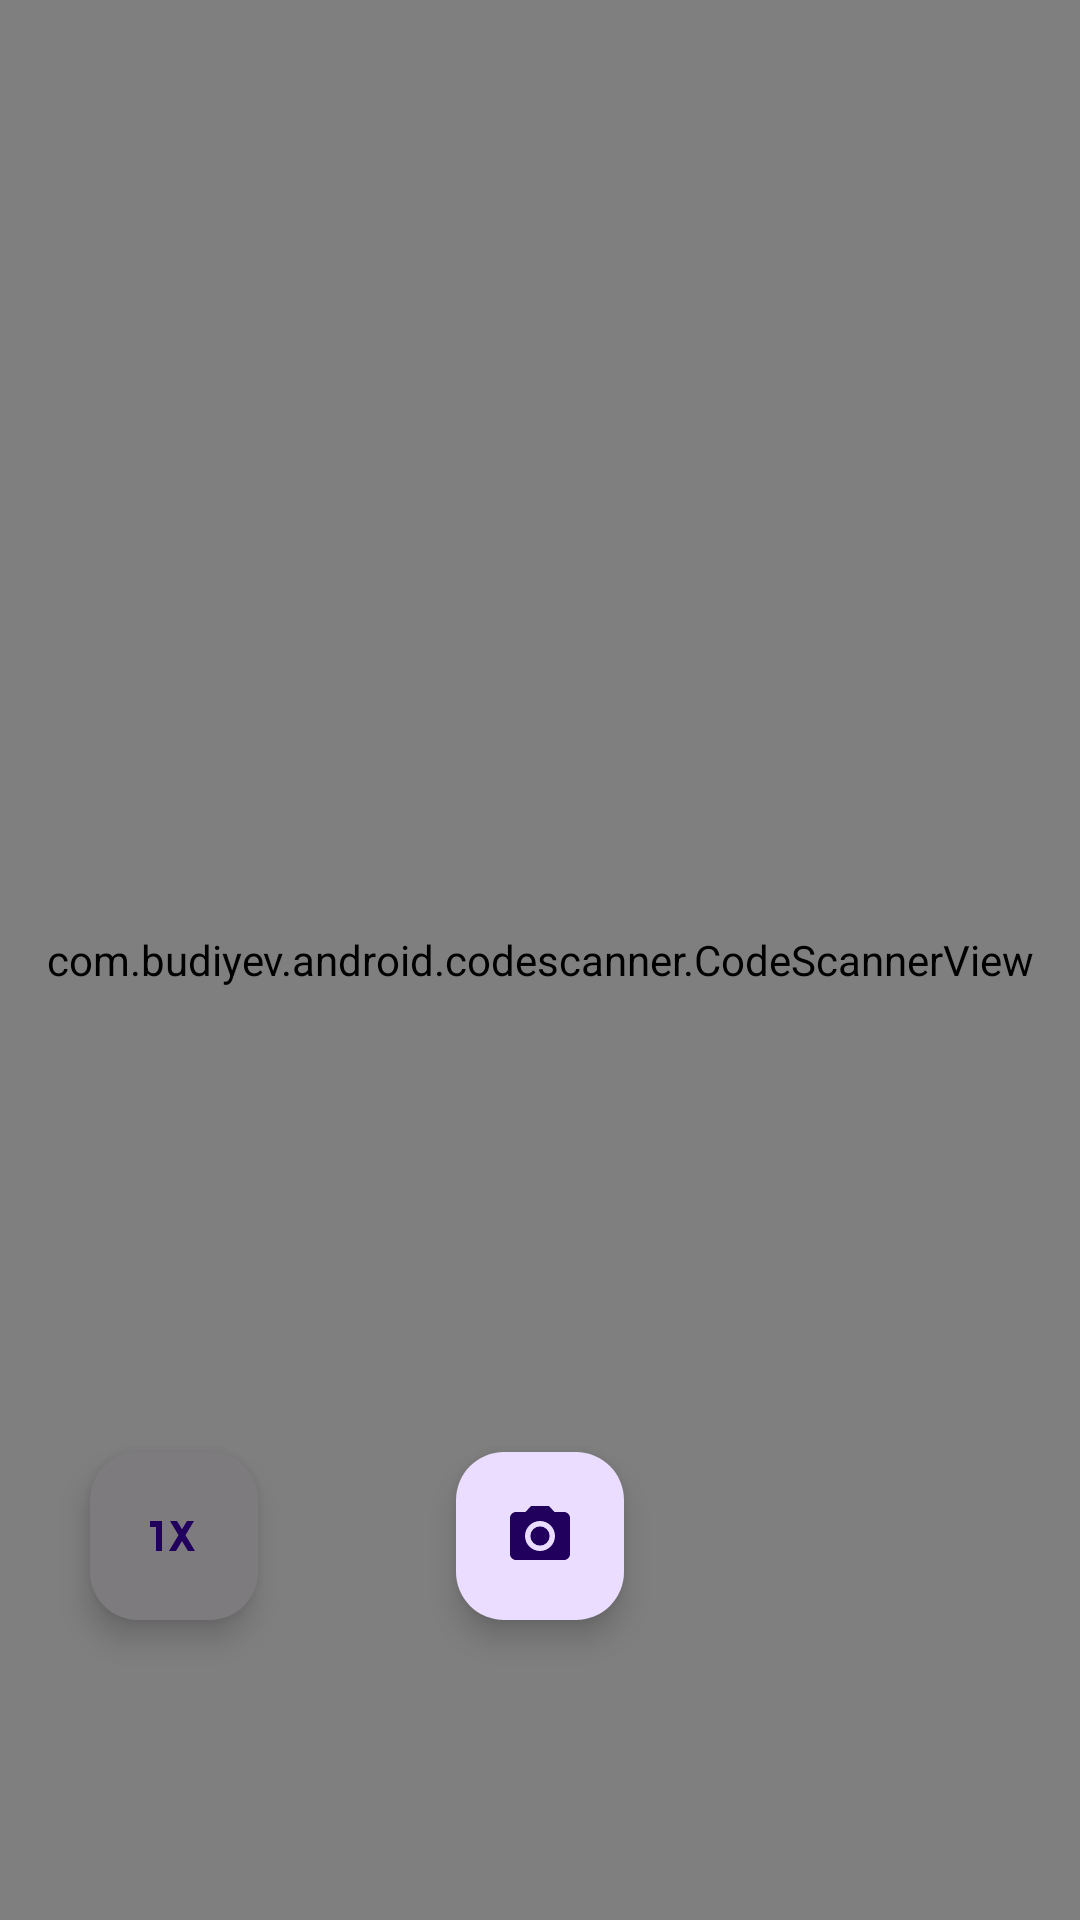

Point at icon controls on the screen. Image size 1080x1920, points as point (x, y).
camera: point (540, 1536)
